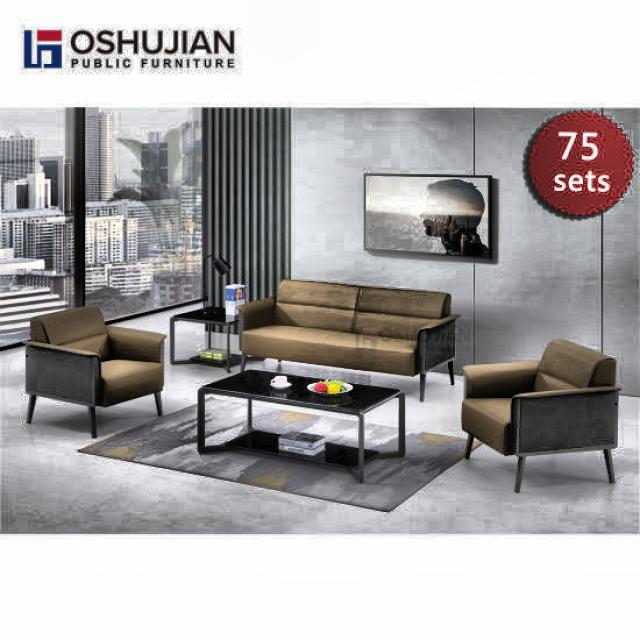sofa: (235, 277, 461, 401), (460, 338, 620, 492), (23, 304, 165, 438)
